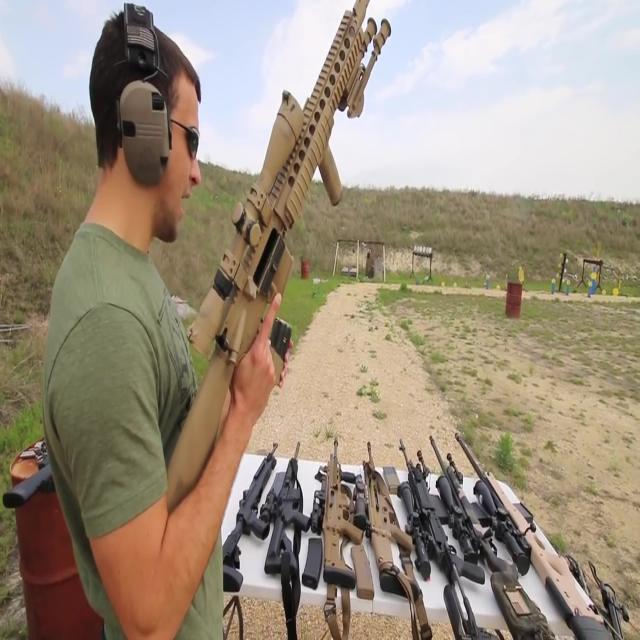Weapon: (141, 0, 436, 575), (212, 405, 628, 640), (0, 394, 90, 537)
